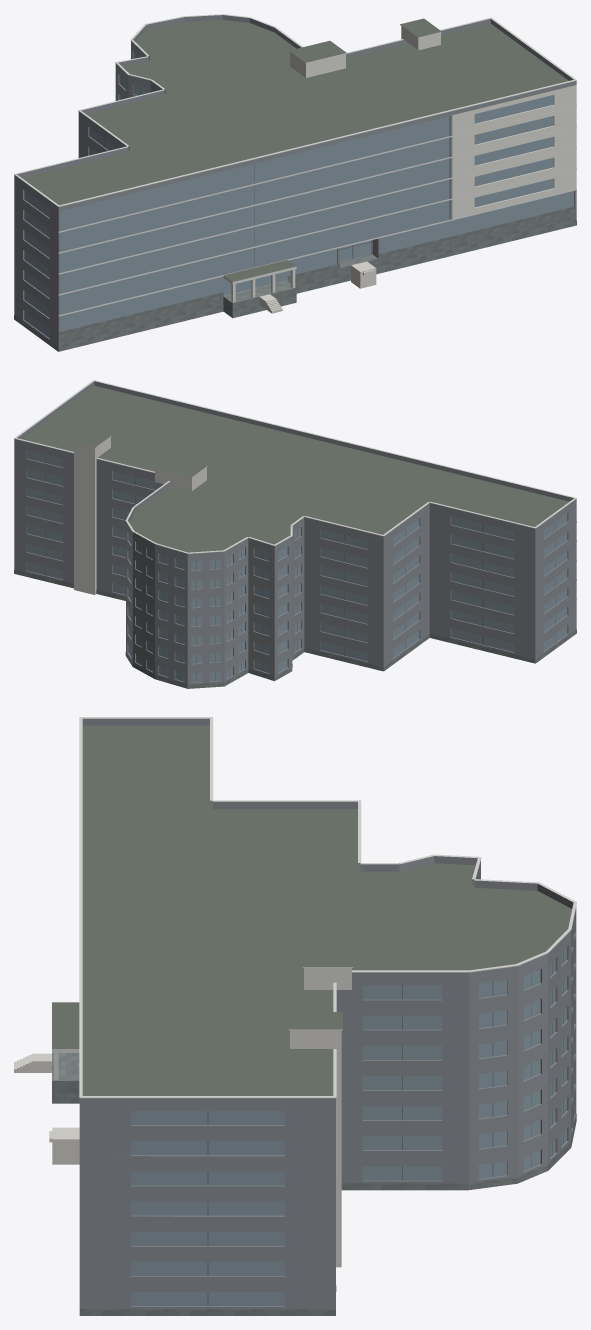
The picture shows the model from 3 angles, top to bottom: view 1: azimuth 30°, elevation 25°; view 2: azimuth 150°, elevation 25°; view 3: azimuth 270°, elevation 25°; orthographic projection. The views are drawn at different scales.
Visible parts, largest first — view 1: lgBiz__glass, lgBiz__roof, lgBiz__wall2, lgBiz__base, lgBiz__trim, lgBiz__wall, lgBiz__parapet, lgBiz__entranceStair; view 2: lgBiz__wall, lgBiz__roof, lgBiz__glass, lgBiz__parapet, lgBiz__wall2, lgBiz__trim, lgBiz__base, lgBiz__frame; view 3: lgBiz__roof, lgBiz__wall, lgBiz__glass, lgBiz__parapet, lgBiz__trim, lgBiz__base, lgBiz__wall2, lgBiz__entranceStair, lgBiz__frame.
Boxes of the visible parts, x1,y1,x2,y2 form: lgBiz__glass: [24, 52, 573, 337]; lgBiz__roof: [22, 18, 572, 351]; lgBiz__wall2: [290, 26, 576, 218]; lgBiz__base: [14, 206, 576, 351]; lgBiz__trim: [14, 14, 576, 316]; lgBiz__wall: [14, 45, 576, 351]; lgBiz__parapet: [14, 15, 576, 211]; lgBiz__entranceStair: [259, 261, 376, 313]; lgBiz__wall: [14, 443, 576, 688]; lgBiz__roof: [21, 385, 568, 552]; lgBiz__glass: [27, 450, 567, 682]; lgBiz__parapet: [14, 381, 576, 557]; lgBiz__wall2: [74, 437, 206, 594]; lgBiz__trim: [14, 380, 576, 599]; lgBiz__base: [14, 569, 576, 688]; lgBiz__frame: [45, 454, 555, 681]; lgBiz__roof: [52, 725, 572, 1216]; lgBiz__wall: [79, 865, 576, 1309]; lgBiz__glass: [131, 947, 566, 1306]; lgBiz__parapet: [79, 718, 576, 1104]; lgBiz__trim: [52, 717, 576, 1098]; lgBiz__base: [52, 1053, 576, 1315]; lgBiz__wall2: [290, 968, 351, 1267]; lgBiz__entranceStair: [14, 1053, 79, 1164]; lgBiz__frame: [207, 950, 563, 1305].
Bounding box in the file's own units: 97.39 × 28.77 × 60.9.
Materials: 11 (1 with a texture image).
